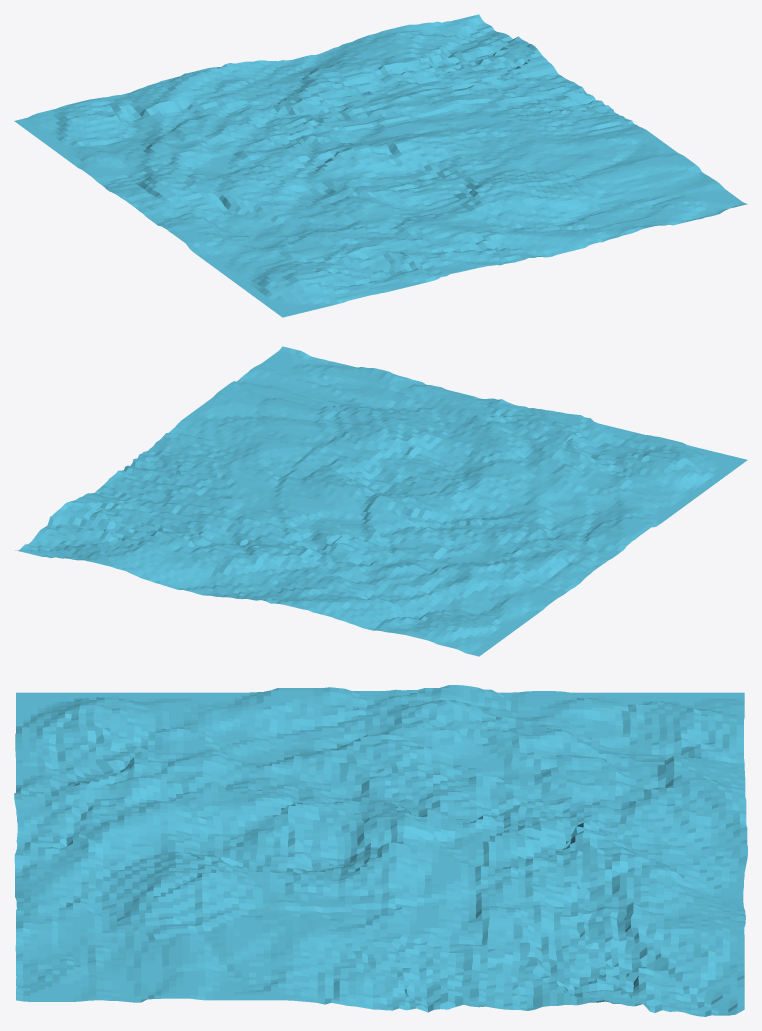
The model's file is water_2.fbx.
3 renders of one model, top to bottom at view 1: azimuth 30°, elevation 25°; view 2: azimuth 150°, elevation 25°; view 3: azimuth 270°, elevation 25°, orthographic. The views are drawn at different scales.
Visible parts, largest first — view 1: Plane_1; view 2: Plane_1; view 3: Plane_1.
Part boxes in pixels (x1,y1,x2,y2): Plane_1: (14, 14, 747, 317); Plane_1: (15, 346, 747, 656); Plane_1: (14, 685, 747, 1016).
Bounding box in the file's own units: 607 × 31.08 × 605.
